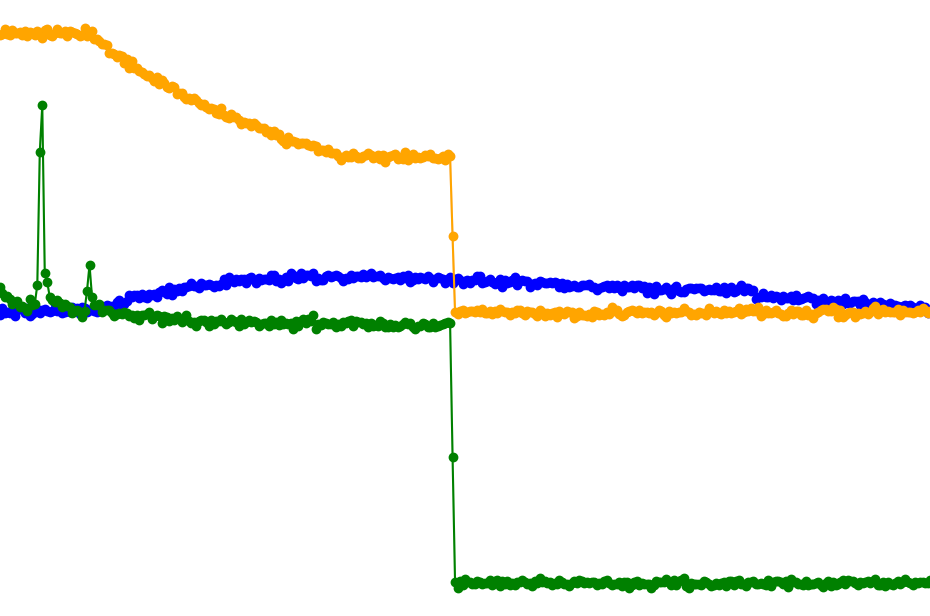CO2 Problem: (477, 0, 930, 616), (238, 0, 477, 616), (59, 0, 238, 616)
Condensation (CO2): (59, 0, 477, 616), (477, 0, 596, 616)
Condensation (O2): (477, 0, 596, 616)
High O2: (59, 0, 477, 616), (477, 0, 775, 616), (238, 0, 477, 616), (59, 0, 238, 616)
Low CO2: (477, 0, 930, 616), (477, 0, 775, 616), (238, 0, 477, 616), (59, 0, 238, 616)
Low O2: (477, 0, 930, 616), (477, 0, 596, 616)
Normal: (0, 0, 930, 616), (477, 0, 930, 616), (238, 0, 477, 616), (59, 0, 238, 616), (238, 0, 417, 616), (59, 0, 179, 616), (0, 0, 59, 616)
O2 Problem: (477, 0, 930, 616), (238, 0, 477, 616)
